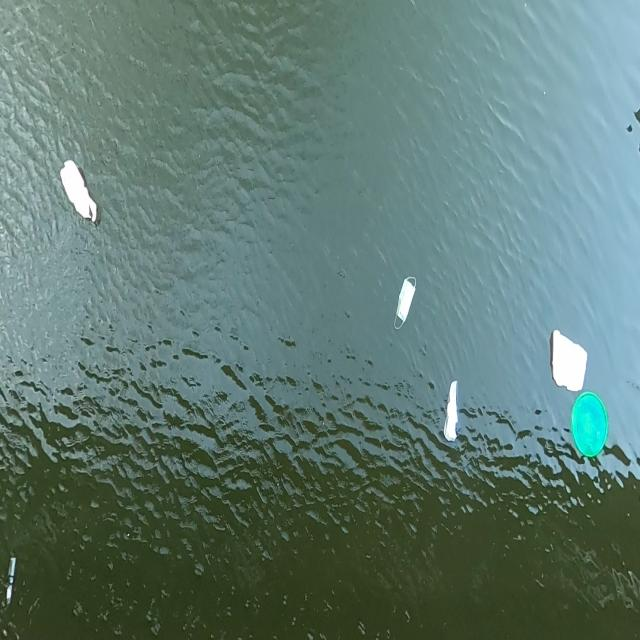Autre plastique: (547, 320, 594, 394), (56, 153, 100, 230), (568, 390, 610, 462)
Non plastique: (390, 268, 422, 332)
